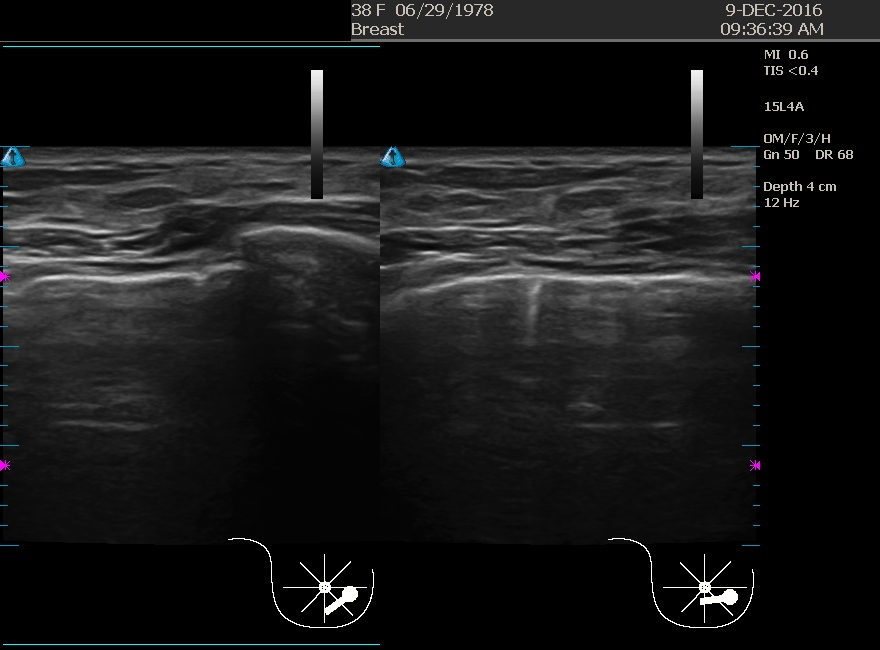BIRADS_2: (479, 153, 679, 354), (50, 154, 250, 354)
